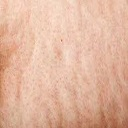Cellulitis: (44, 33, 83, 82)
